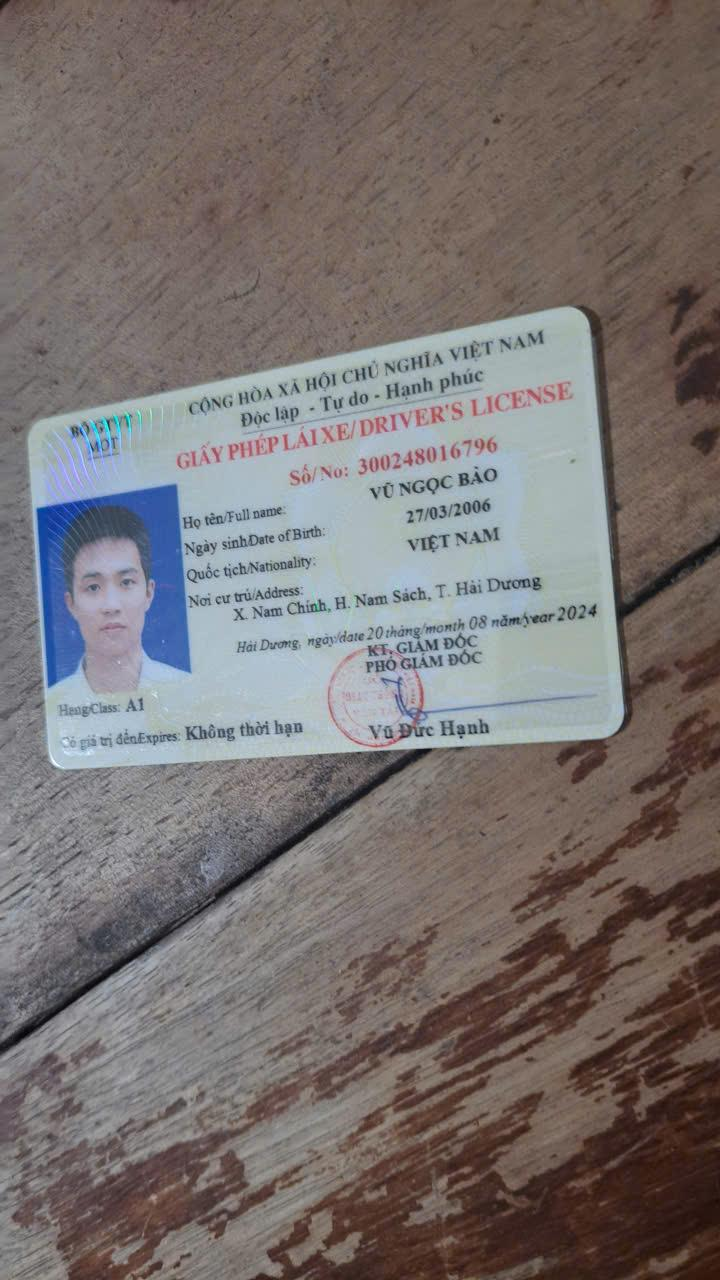gplx: (20, 303, 635, 772)
